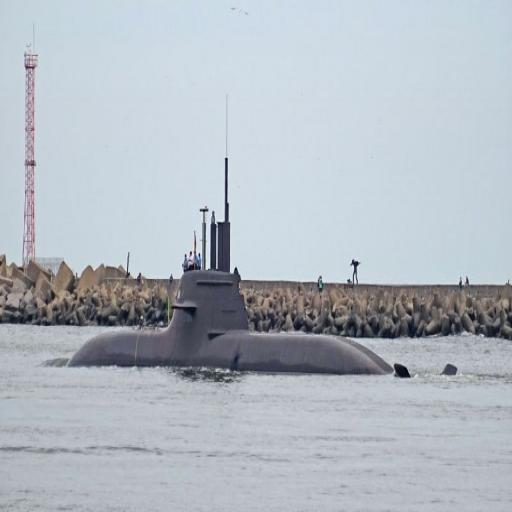submarine: (69, 102, 478, 380)
